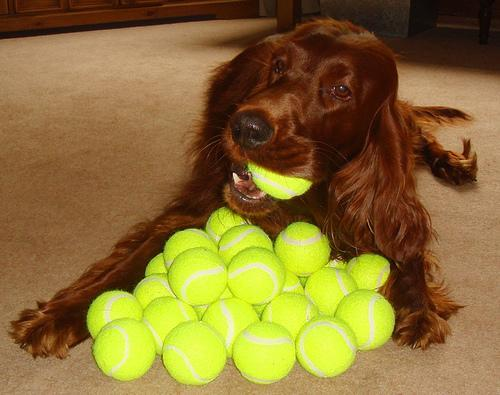Irish_setter: (6, 17, 481, 365)
